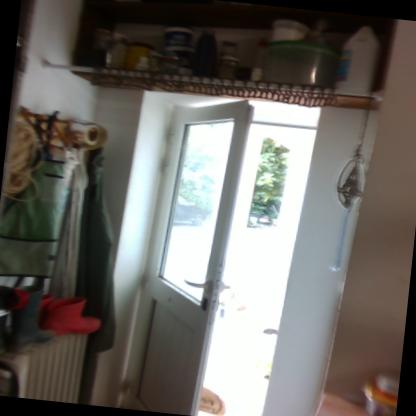semi: (106, 85, 342, 415)
